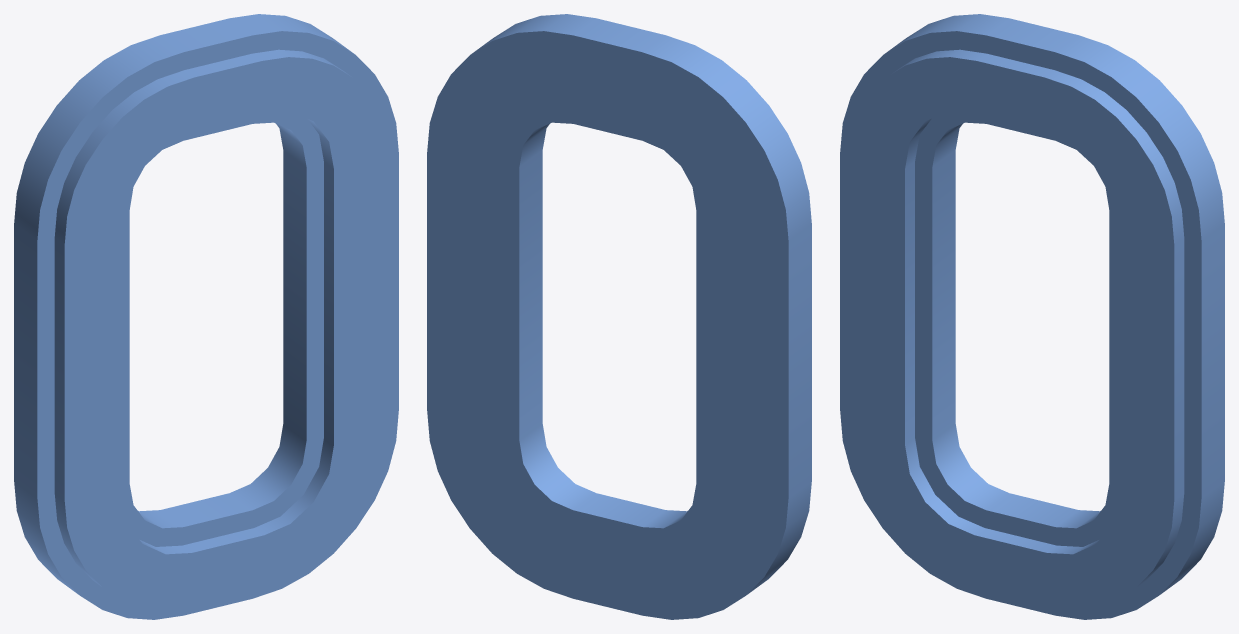
The picture shows the model from 3 angles, left to right: view 1: azimuth 30°, elevation 25°; view 2: azimuth 150°, elevation 25°; view 3: azimuth 330°, elevation 25°; orthographic projection.
Parts seen in each view (by area): view 1: 0; view 2: 0; view 3: 0.
Part boxes in pixels (x1,y1,x2,y2): 0: (14,14,398,619); 0: (427,14,811,619); 0: (840,14,1224,619).
Size of the model in its own units: 3.13 by 4.67 by 0.5.
